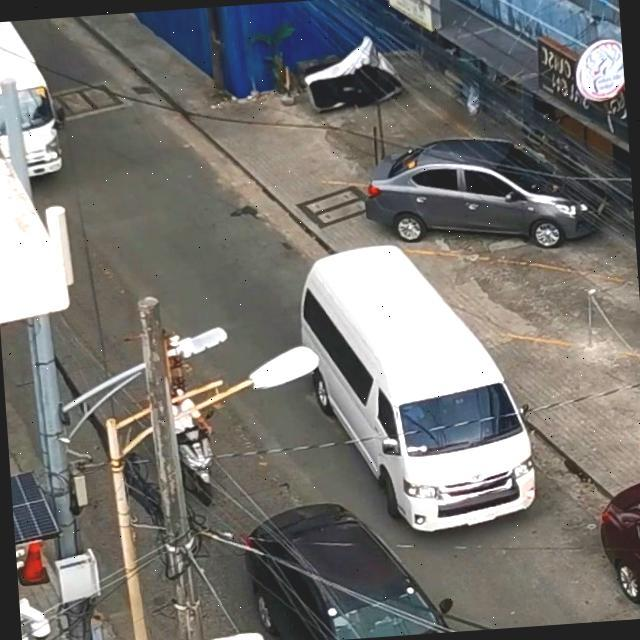Truck: (0, 17, 77, 207)
